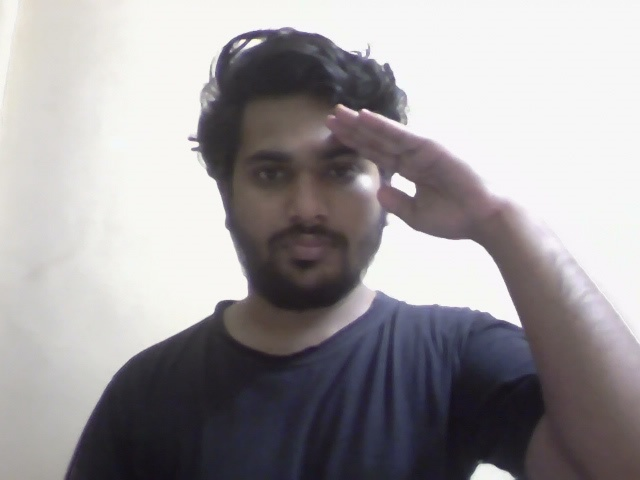hello: (170, 14, 640, 342)
